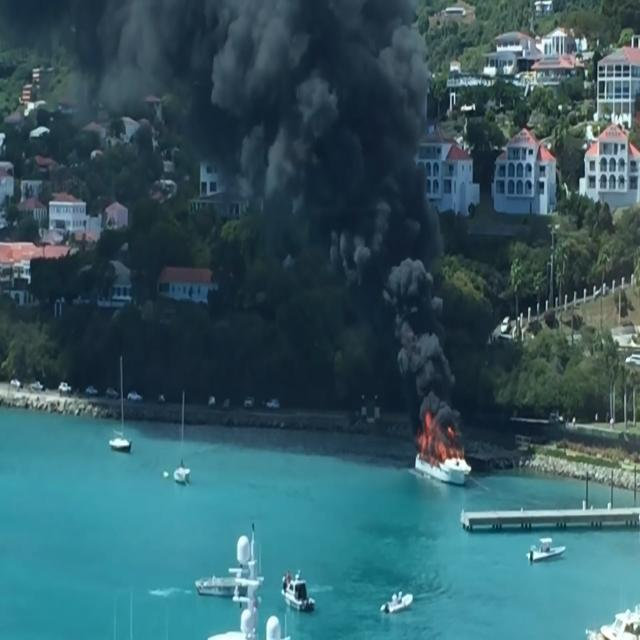Smoke: (210, 8, 417, 226), (389, 252, 454, 415)
